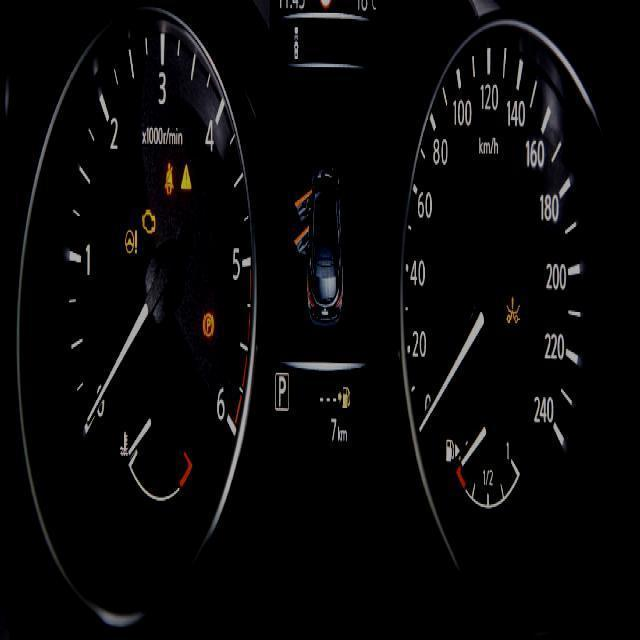Electronic Power Steering: (122, 226, 138, 256)
Seat Belt: (162, 162, 176, 198)
